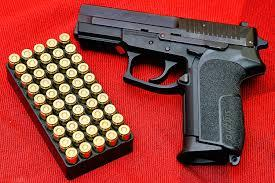gun: (47, 5, 263, 163)
